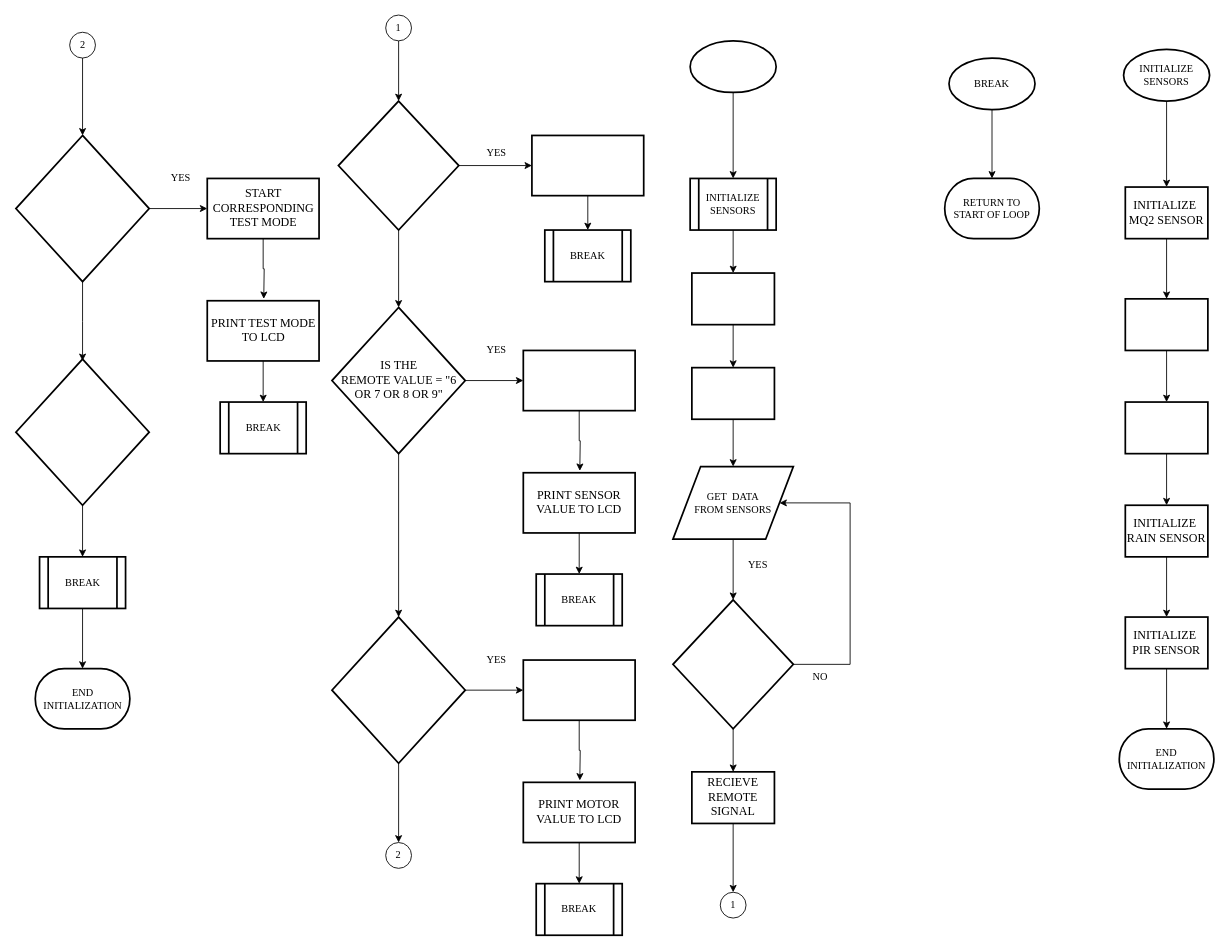
The diagram is 1229 pixels wide and 951 high, and some of its shapes have lost their labels. Each missing label, with the centre of its shape:
INITIALIZE DHT11 SENSOR: point (1166, 427)
INITIALIZE LCD AND IR REMOTE: point (733, 298)
INITIALIZE MOTORS: point (733, 393)
INITIALIZE MQ9 SENSOR: point (1166, 324)
IS REMOTE RECIEVEING SIGNAL: point (733, 664)
IS THE REMOTE VALUE = "+ OR - ": point (398, 690)
IS THE REMOTE VALUE = "CH": point (398, 165)
IS THE REMOTE VALUE = "CH+ OR 3 ": point (82, 208)
IS THE REMOTE VALUE NOT DEFINED: point (82, 432)
LAUNCH CORRESPONDING SENSOR MODE: point (579, 380)
MOVE MOTOR IN INCREMENT OR DECREMENT: point (579, 690)
PRINT FUNCTION LIST TO LCD: point (587, 165)
START: point (733, 66)
